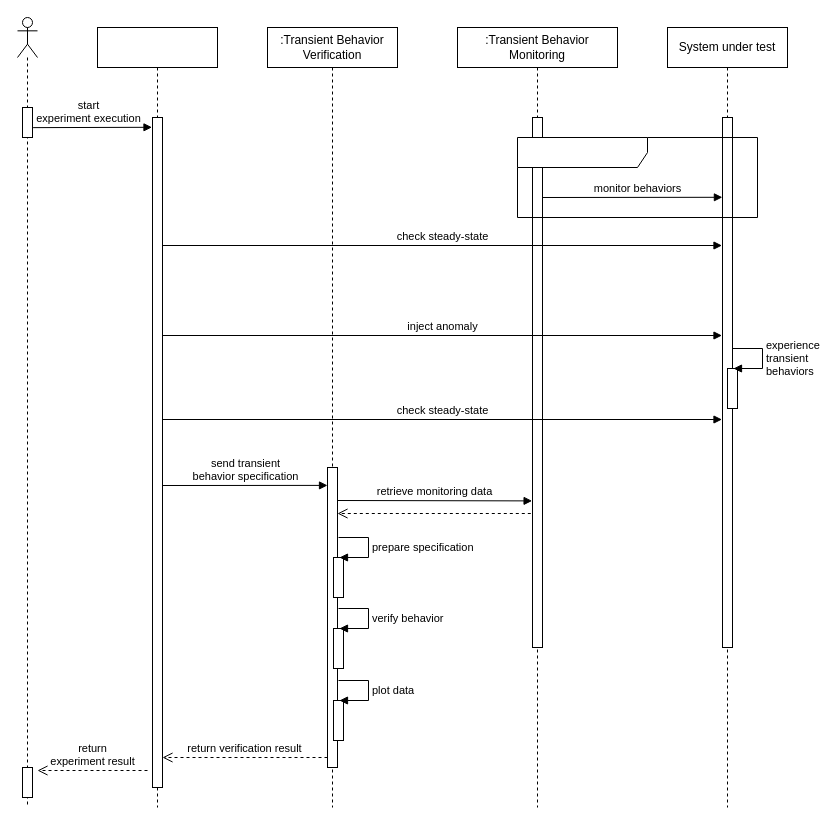
This 838x825 diagram has some shape labels left out. The shapes that lost their labels are listed below. From the top down, each one's box as (x1, y1, x2, y2) in pixels, then its label:
(516, 136, 758, 218): throughout the whole experiment
(96, 26, 218, 808): :Chaos Engineering Tool
